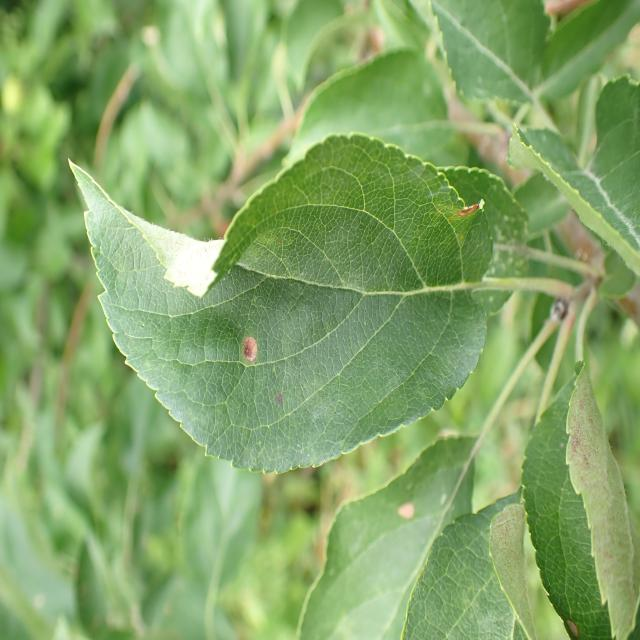frog-eye-leaf-spot: (67, 132, 495, 475)
